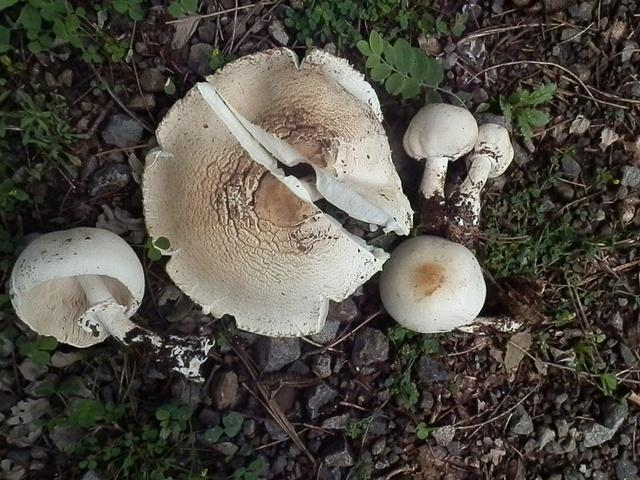Non-edible Mushroom: (140, 45, 414, 338), (8, 225, 146, 349), (378, 233, 487, 334), (401, 101, 478, 199)
